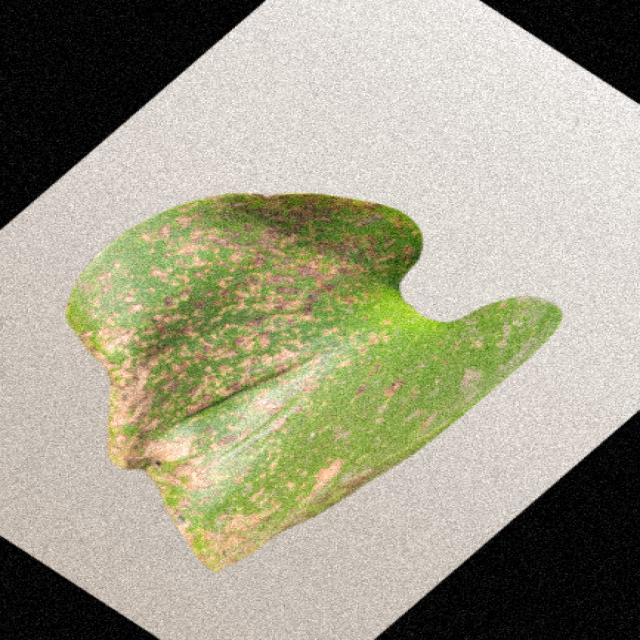daun berpenyakit bercak: (68, 194, 560, 570)
